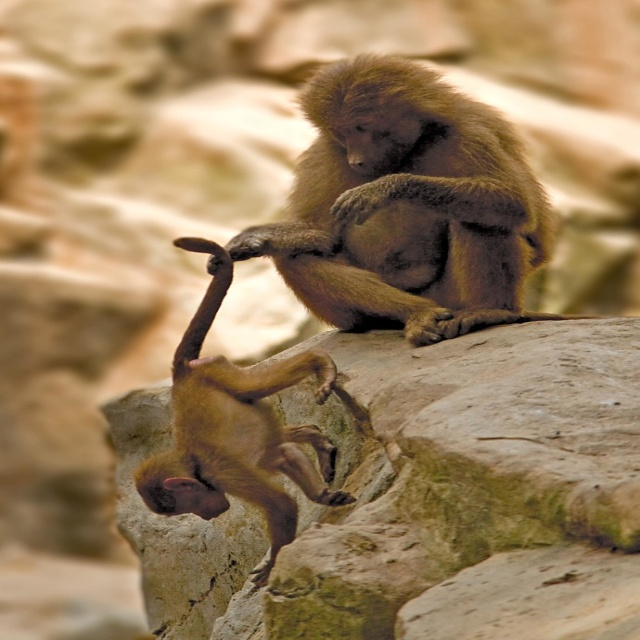Monkey: (205, 54, 562, 343), (131, 232, 360, 585)
